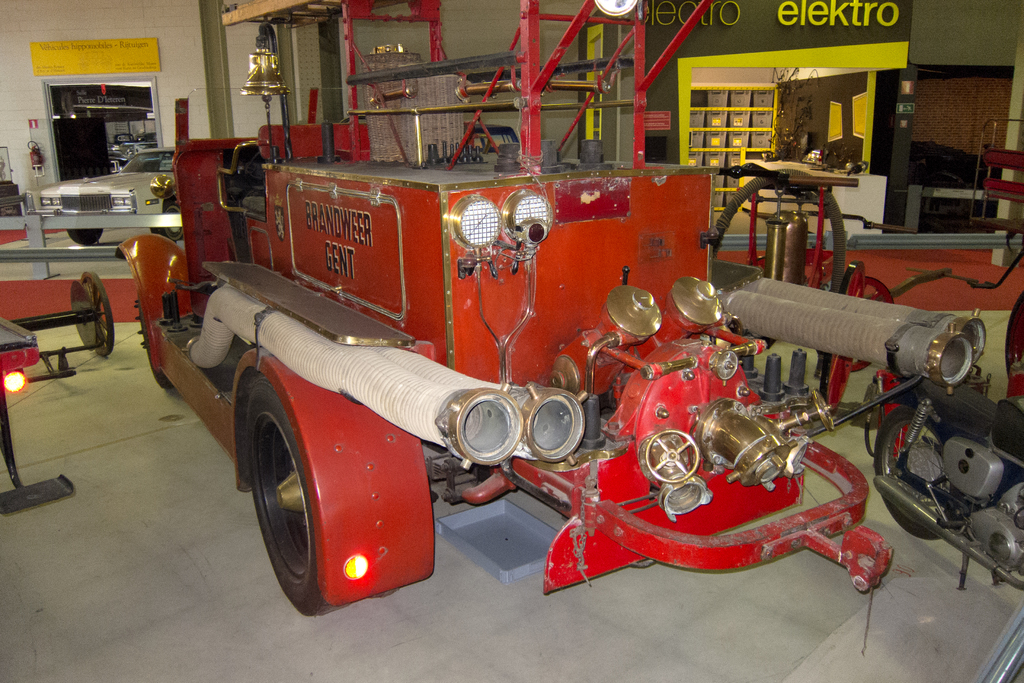Wheel: (248, 375, 327, 620), (874, 405, 957, 539), (821, 275, 897, 374), (820, 262, 867, 412), (136, 287, 173, 388), (81, 272, 114, 356), (67, 231, 102, 246)
